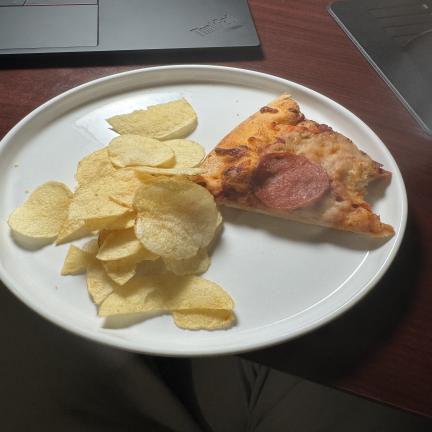chips: (9, 99, 234, 329), (133, 180, 218, 259), (100, 274, 234, 316), (106, 98, 196, 140), (8, 181, 72, 238), (61, 240, 118, 304), (69, 169, 140, 219), (108, 135, 174, 167), (97, 228, 158, 260), (104, 248, 158, 284), (75, 148, 116, 186), (159, 140, 205, 168), (171, 309, 235, 329), (163, 248, 210, 275), (61, 245, 93, 274), (56, 218, 88, 243), (85, 214, 124, 234), (134, 166, 206, 176), (105, 210, 137, 230)
pizza: (195, 94, 393, 237)
plate: (6, 92, 396, 332)
